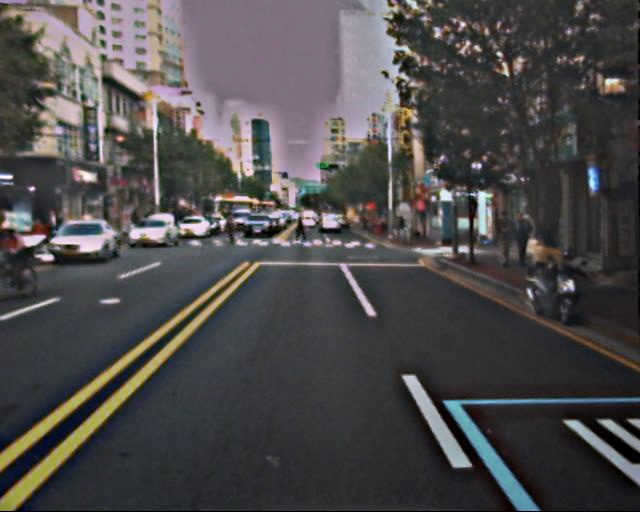person: (507, 210, 533, 274), (490, 210, 514, 269), (294, 216, 307, 247)
